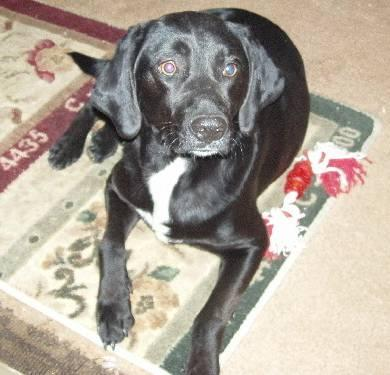dog: (49, 8, 309, 374)
